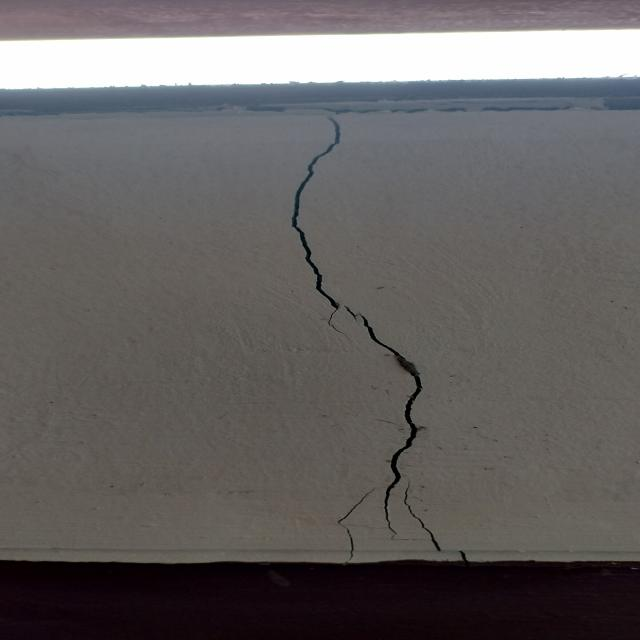Crack: (274, 118, 465, 557)
